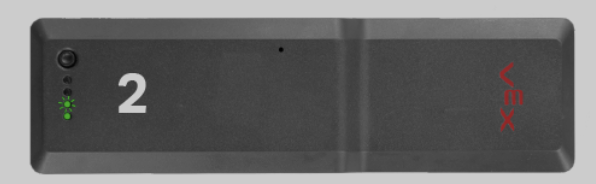Battery2: (60, 71, 78, 125)
